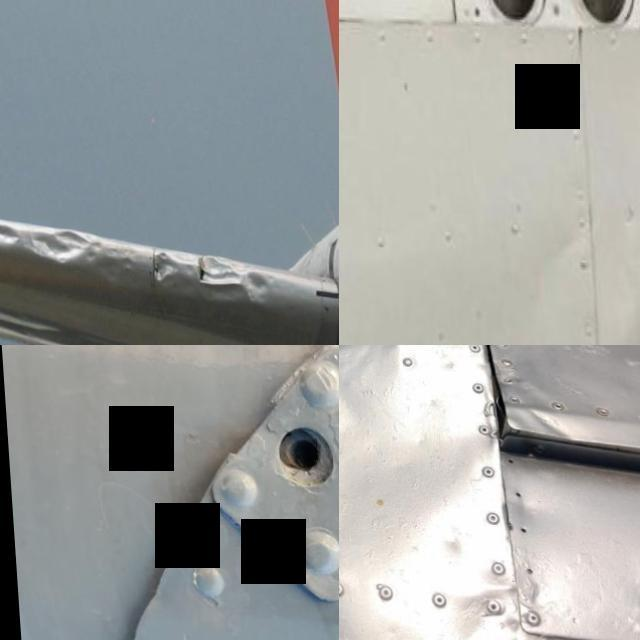Crack: (188, 246, 205, 283)
Dent: (0, 215, 270, 294), (339, 345, 407, 396)
Missing_Fastener: (252, 400, 339, 511)
